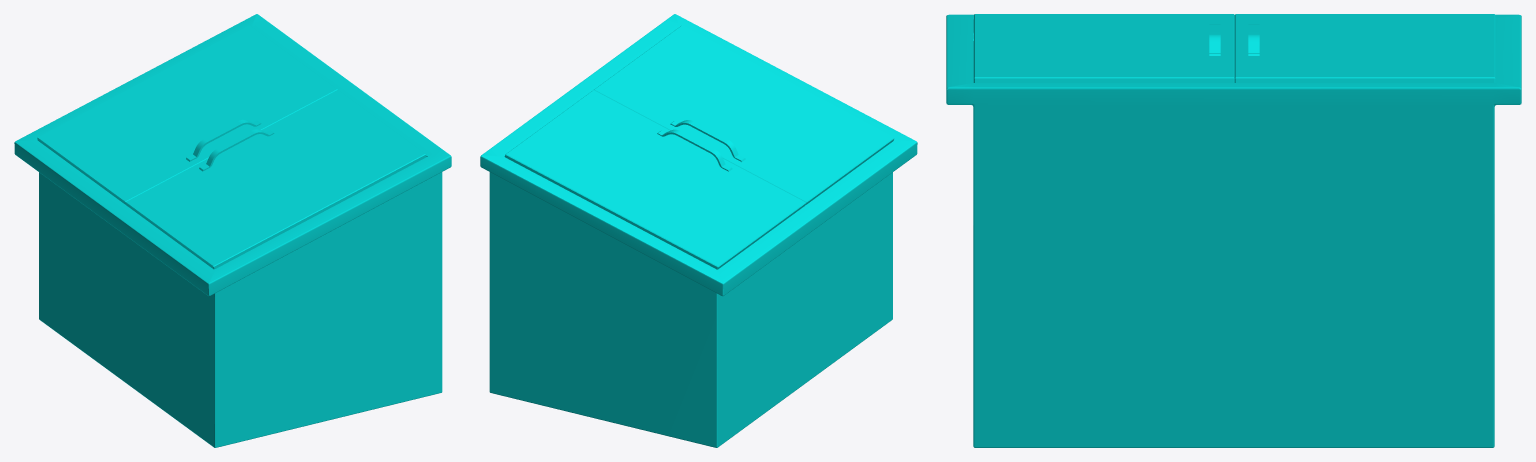
File: SM_Store_Crypt.fbx
3 views of the same model, side by side, from view 1: azimuth 30°, elevation 25°; view 2: azimuth 150°, elevation 25°; view 3: azimuth 270°, elevation 25° (orthographic). The views are drawn at different scales.
Visible parts, largest first — view 1: SM_Store_Crypt; view 2: SM_Store_Crypt; view 3: SM_Store_Crypt.
Boxes of the visible parts, x1,y1,x2,y2 form: SM_Store_Crypt: (14, 14, 451, 447); SM_Store_Crypt: (480, 14, 917, 447); SM_Store_Crypt: (946, 14, 1521, 447).
Size of the model in its own units: 119 by 114 by 165.
